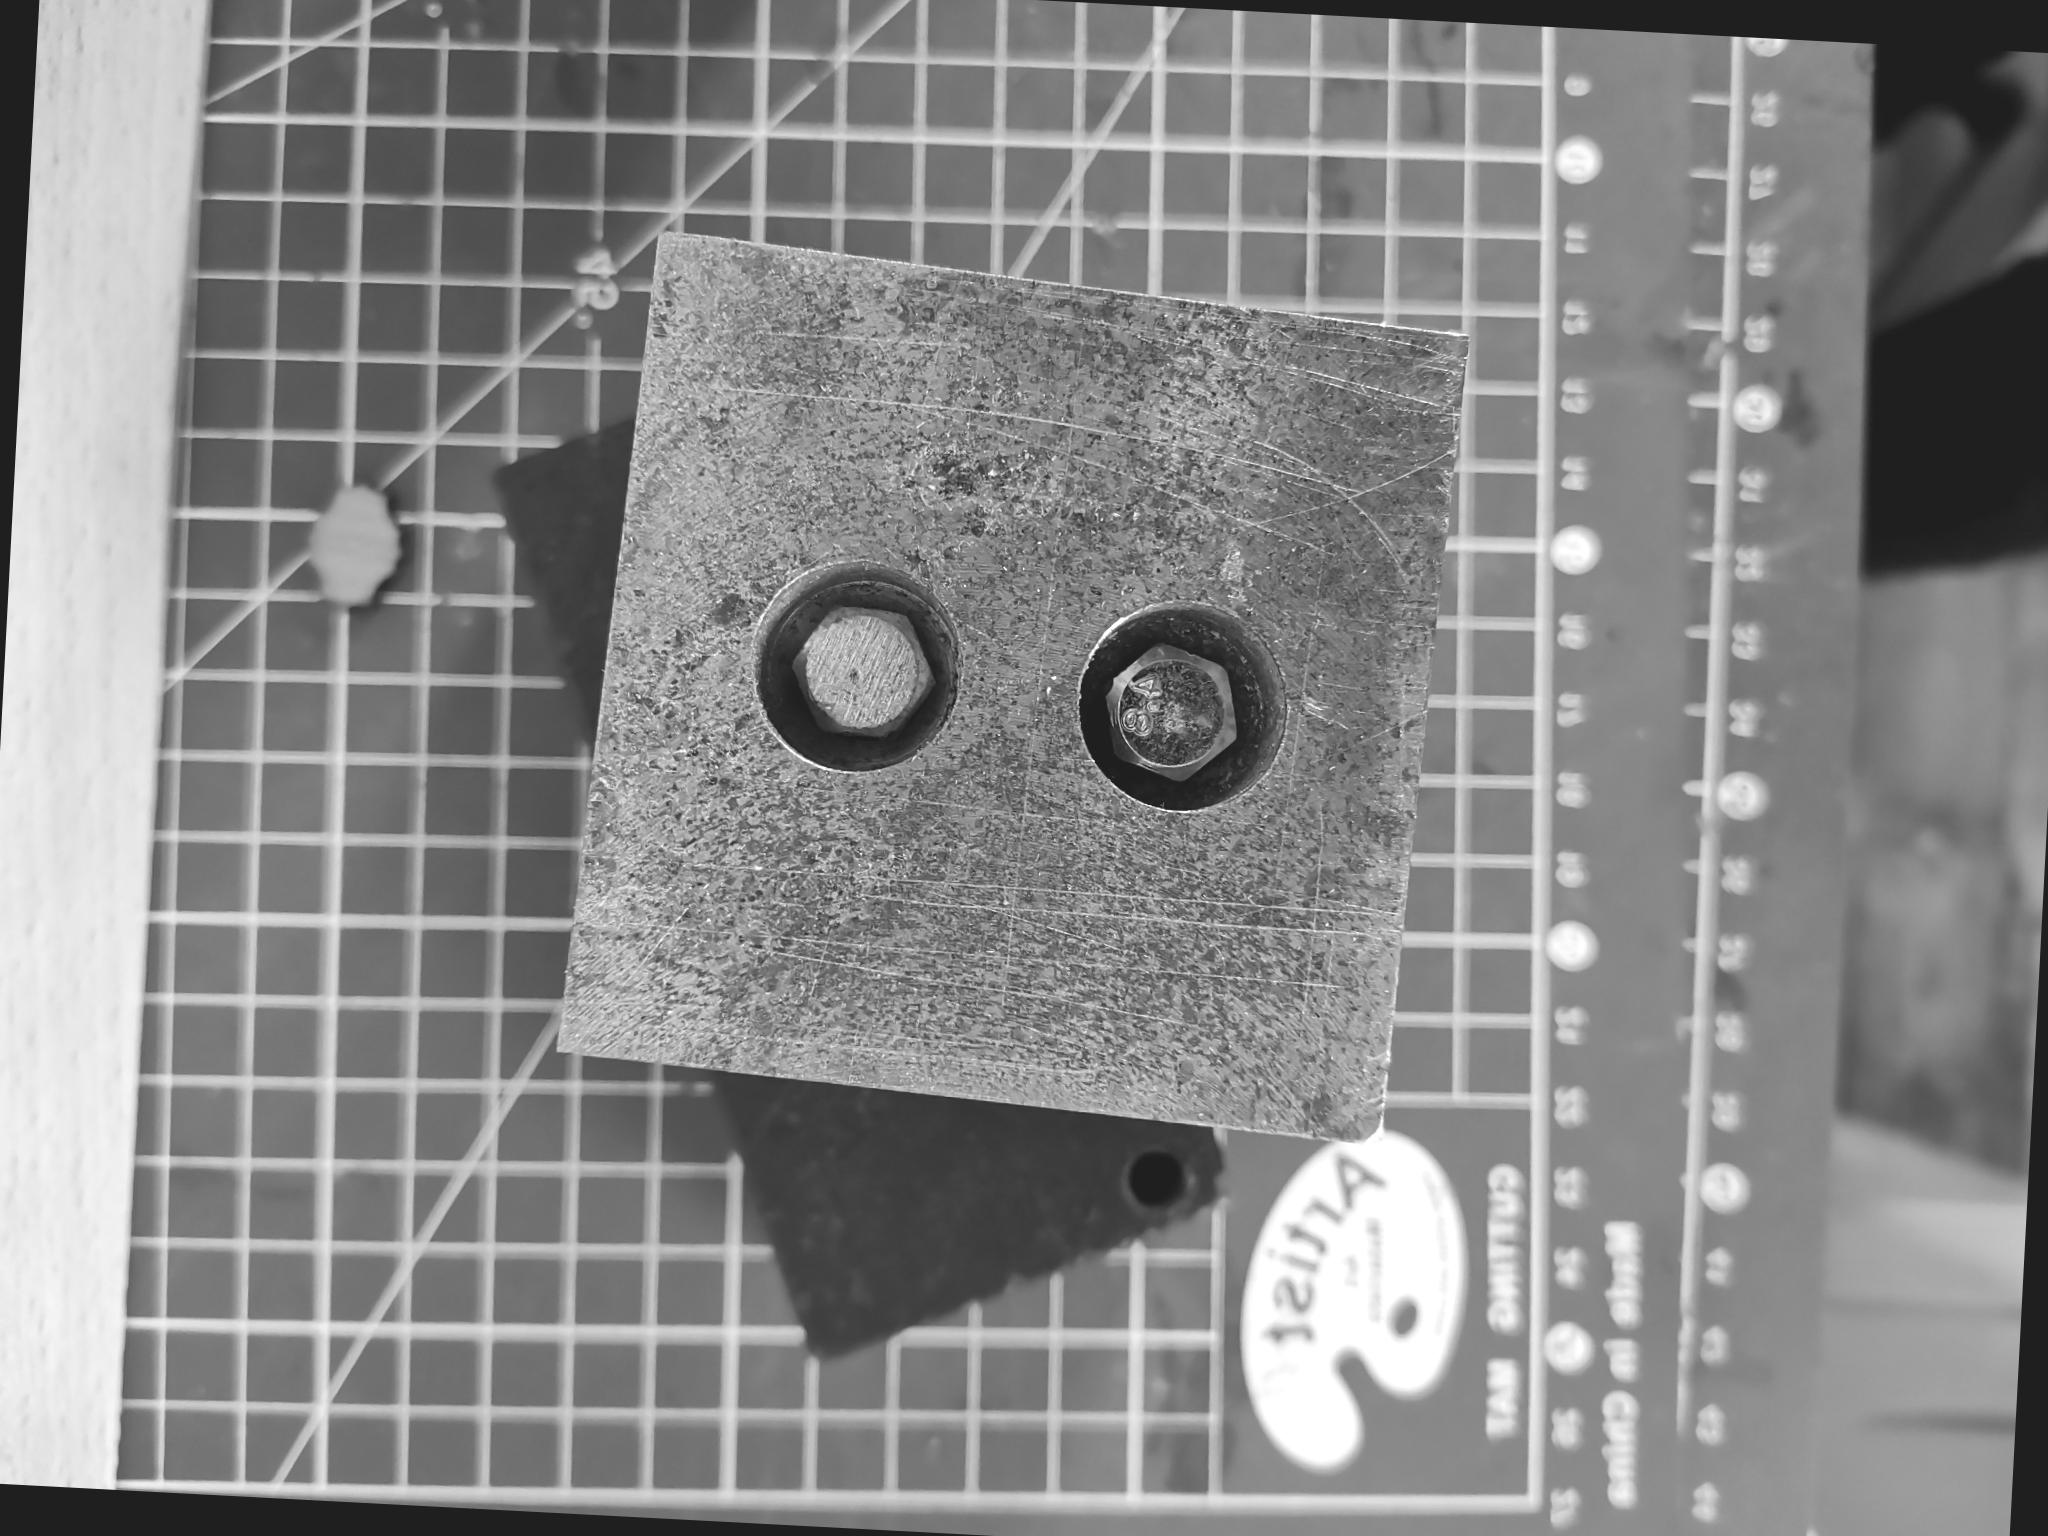screw: (727, 557, 980, 787), (1064, 587, 1306, 821)
